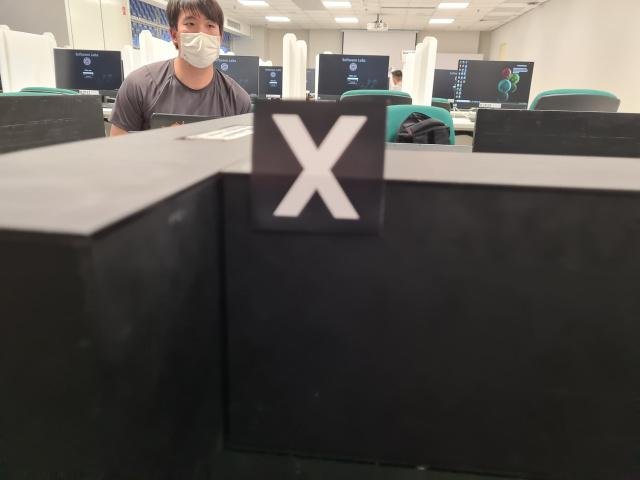x: (252, 98, 386, 235)
